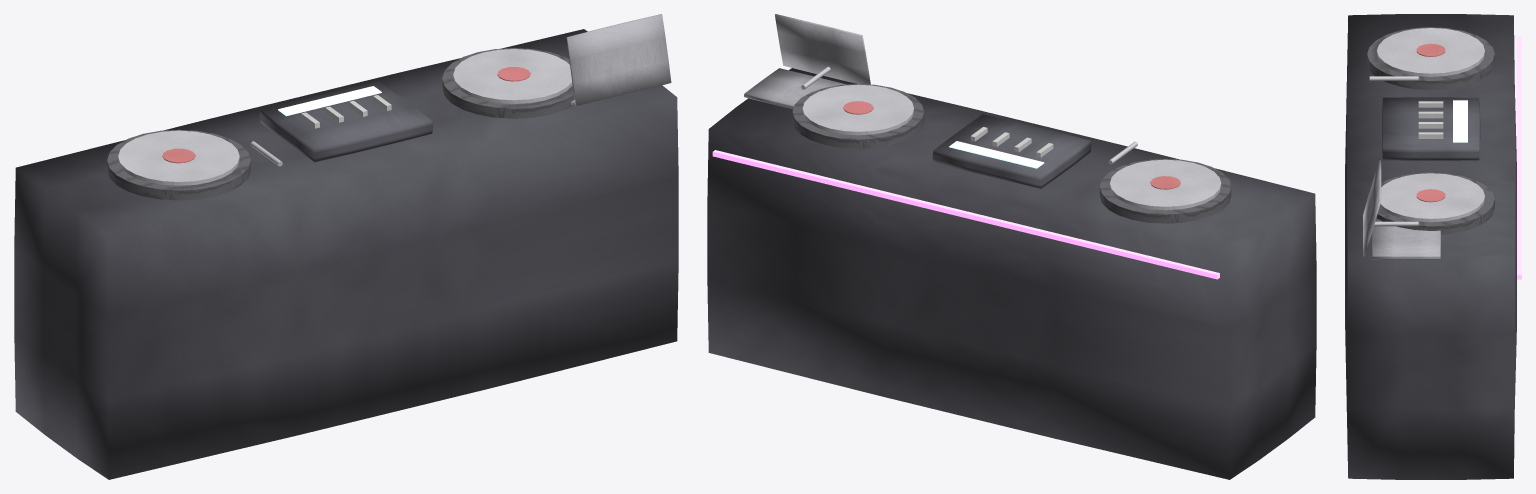
Rendered from dj_booth.glb.
The picture shows the model from 3 angles, left to right: view 1: azimuth 30°, elevation 25°; view 2: azimuth 150°, elevation 25°; view 3: azimuth 270°, elevation 25°; orthographic projection. The views are drawn at different scales.
Parts seen in each view (by area): view 1: dj_booth_body, Glow; view 2: dj_booth_body, Glow; view 3: dj_booth_body, Glow.
Part boxes in pixels (x1,y1,x2,y2): dj_booth_body: [14, 14, 678, 479]; Glow: [278, 86, 381, 116]; dj_booth_body: [707, 14, 1316, 479]; Glow: [949, 141, 1044, 168]; dj_booth_body: [1345, 14, 1521, 479]; Glow: [1453, 100, 1467, 142].
Bounding box in the file's own units: 2.4 × 1.27 × 0.72.
9 materials, 7 textured.
